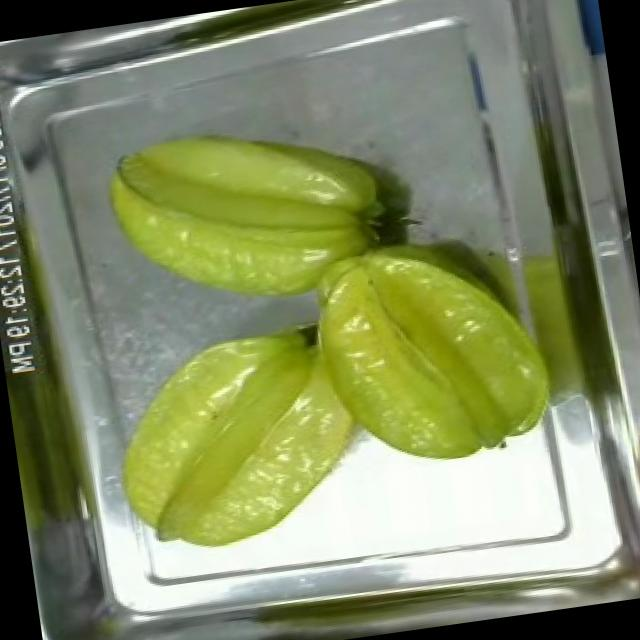fruit: (82, 304, 378, 573), (83, 92, 407, 337), (289, 209, 572, 487), (1, 338, 108, 565), (584, 410, 640, 602)
